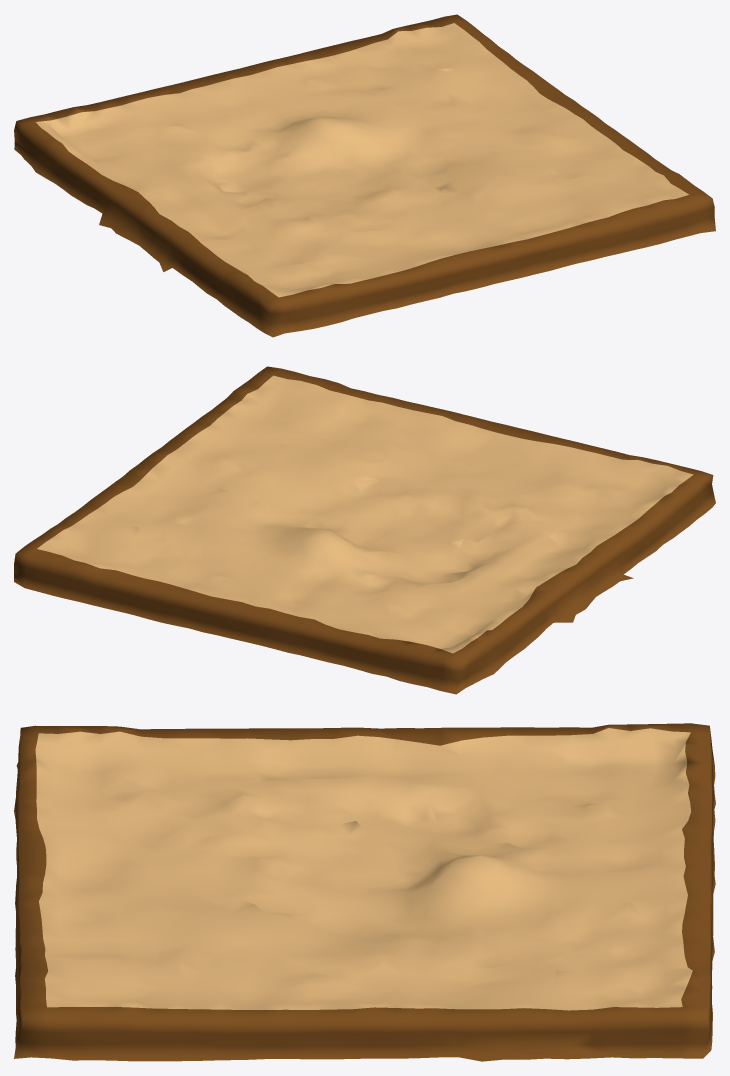
Rendered from SM_Sandbox.fbx.
3 renders of one model, top to bottom at view 1: azimuth 30°, elevation 25°; view 2: azimuth 150°, elevation 25°; view 3: azimuth 270°, elevation 25°, orthographic. The views are drawn at different scales.
Parts seen in each view (by area): view 1: sandkasten.001; view 2: sandkasten.001; view 3: sandkasten.001.
Boxes of the visible parts, x1,y1,x2,y2 form: sandkasten.001: (14,14,715,337); sandkasten.001: (14,366,715,694); sandkasten.001: (14,723,715,1061).
Bounding box in the file's own units: 282 × 24.01 × 271.
